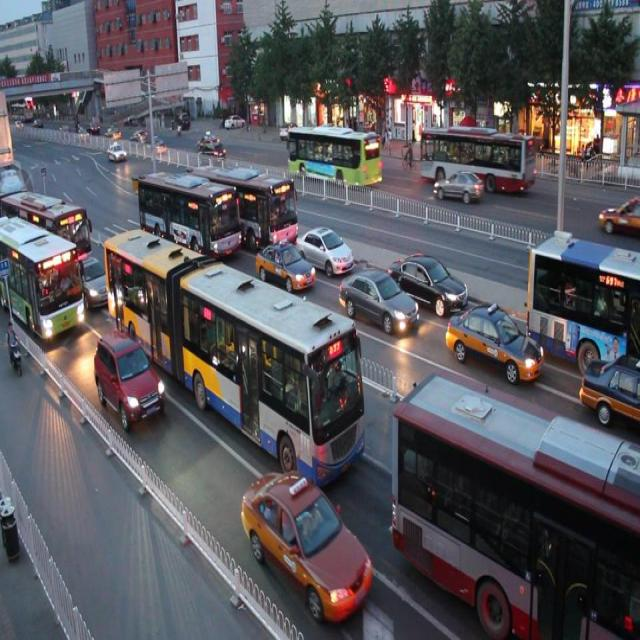car: (240, 468, 371, 622), (446, 294, 544, 382), (92, 330, 165, 431), (337, 258, 416, 331), (390, 243, 468, 309), (577, 351, 640, 425), (253, 230, 314, 289), (294, 214, 352, 273), (68, 256, 114, 311)
van: (102, 218, 366, 482), (394, 372, 640, 640), (525, 232, 640, 369), (1, 212, 87, 341), (136, 160, 240, 262), (191, 153, 298, 248), (1, 182, 90, 272)
